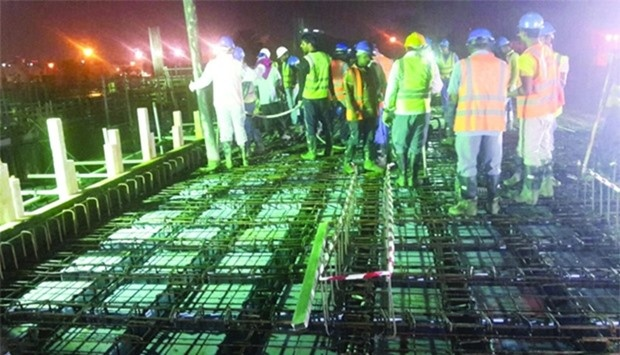blue: (518, 10, 543, 43), (466, 28, 495, 53), (353, 39, 375, 62), (333, 41, 351, 60), (217, 35, 235, 54), (497, 36, 512, 54), (438, 37, 450, 52)
none: (299, 32, 319, 52)
white: (274, 45, 290, 61)
yellow: (403, 29, 428, 55)
